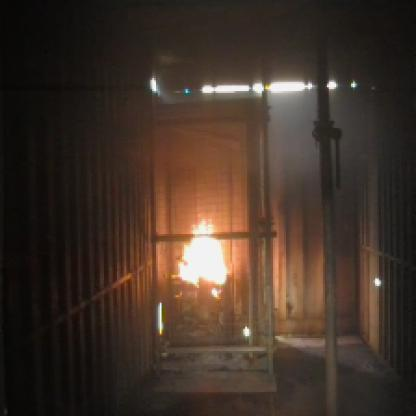Fire: (176, 217, 234, 301)
